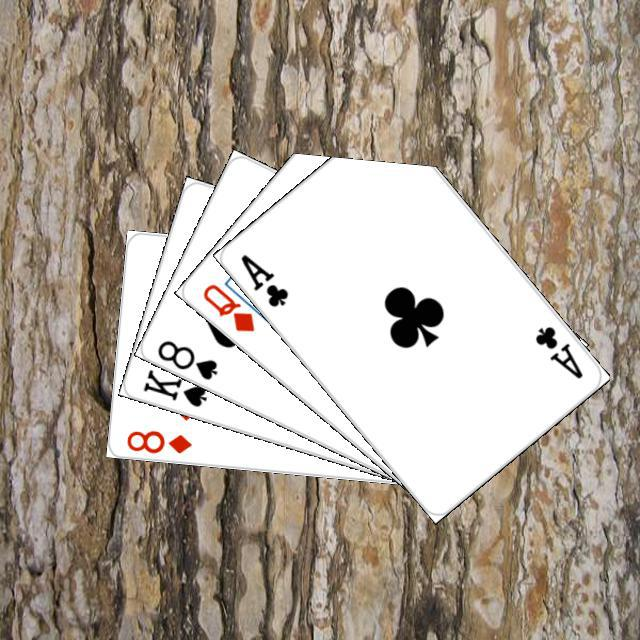8d: (122, 425, 193, 456)
8s: (152, 335, 219, 382)
Ac: (235, 249, 291, 309), (529, 321, 585, 381)
Ks: (138, 364, 209, 409)
Qd: (197, 279, 257, 334)
